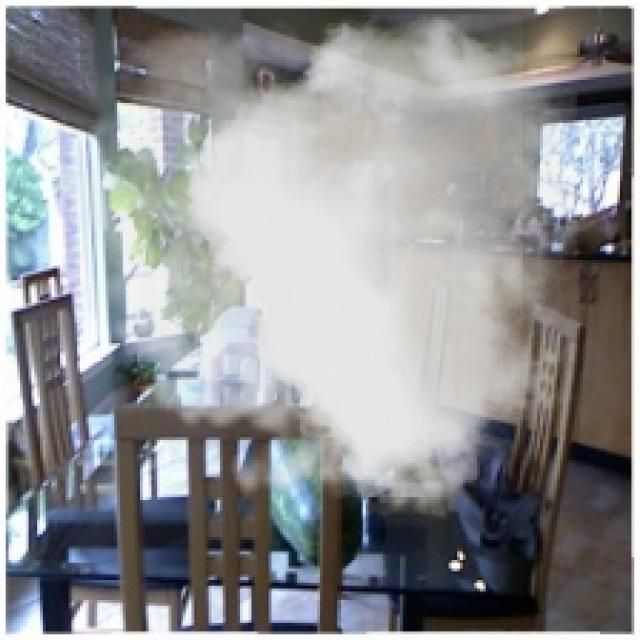smoke: (49, 14, 577, 529)
